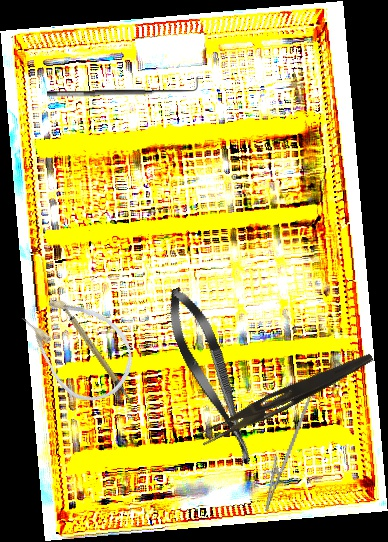Cannula: (6, 274, 150, 417)
Dressing Forceps: (196, 343, 376, 453)
Hook Surgical: (46, 76, 201, 100)
Micro Scissor: (157, 281, 266, 471)
Needle Holder: (255, 390, 312, 516)
Scalpel Handle: (58, 295, 133, 413)
